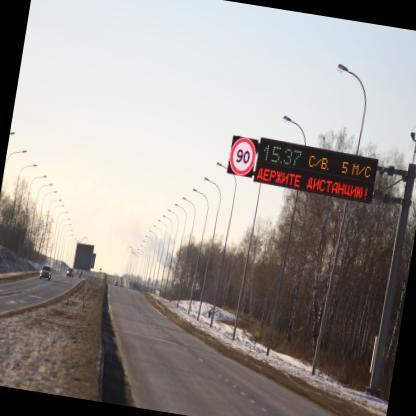road_sign: (230, 138, 256, 176)
